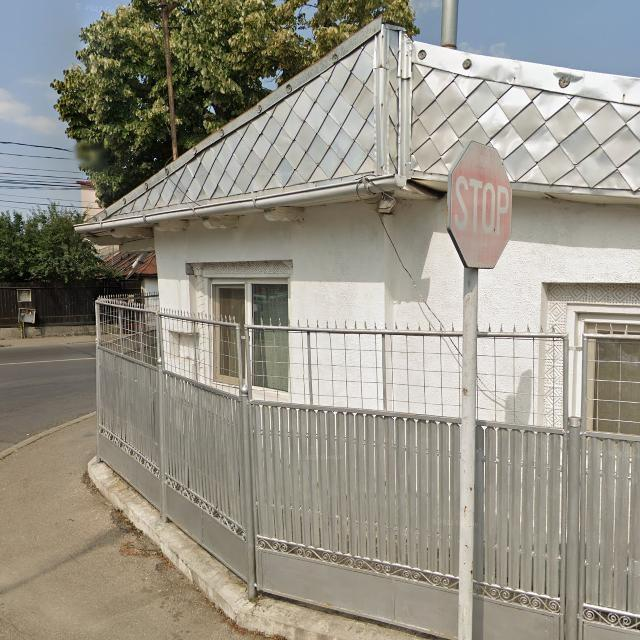prio_stop: (448, 141, 511, 270)
